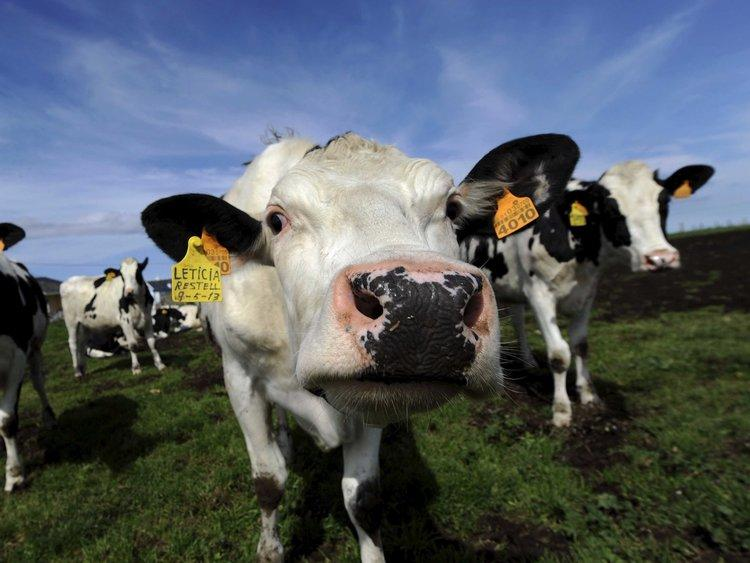muzzles: (300, 258, 514, 420), (633, 246, 683, 275)
